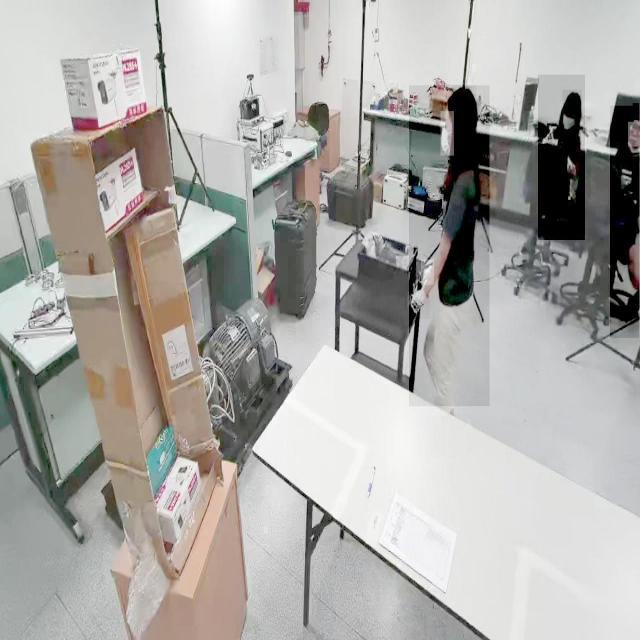gloves: (411, 284, 430, 320), (422, 260, 434, 286)
